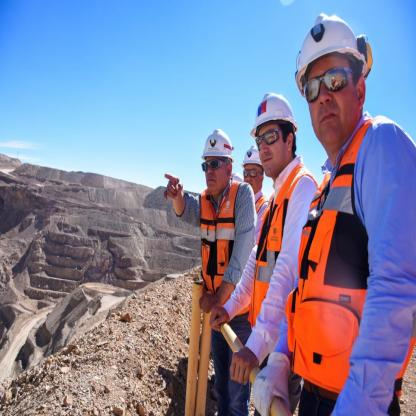person: (294, 24, 416, 415), (160, 108, 271, 399), (249, 41, 322, 415)
